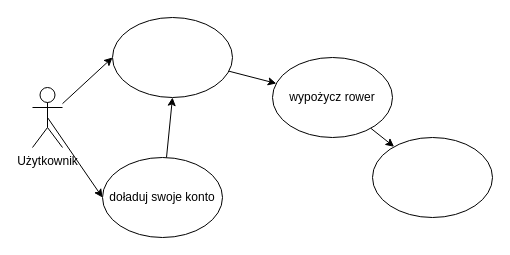
Image size: 510x255. Some labels were removed from this diagram. Here are the shapes that lost their labels. From the top down, the centre of each, then its label:
point (172, 57): znajdź pobliskie rowery
point (432, 177): oddaj rower
